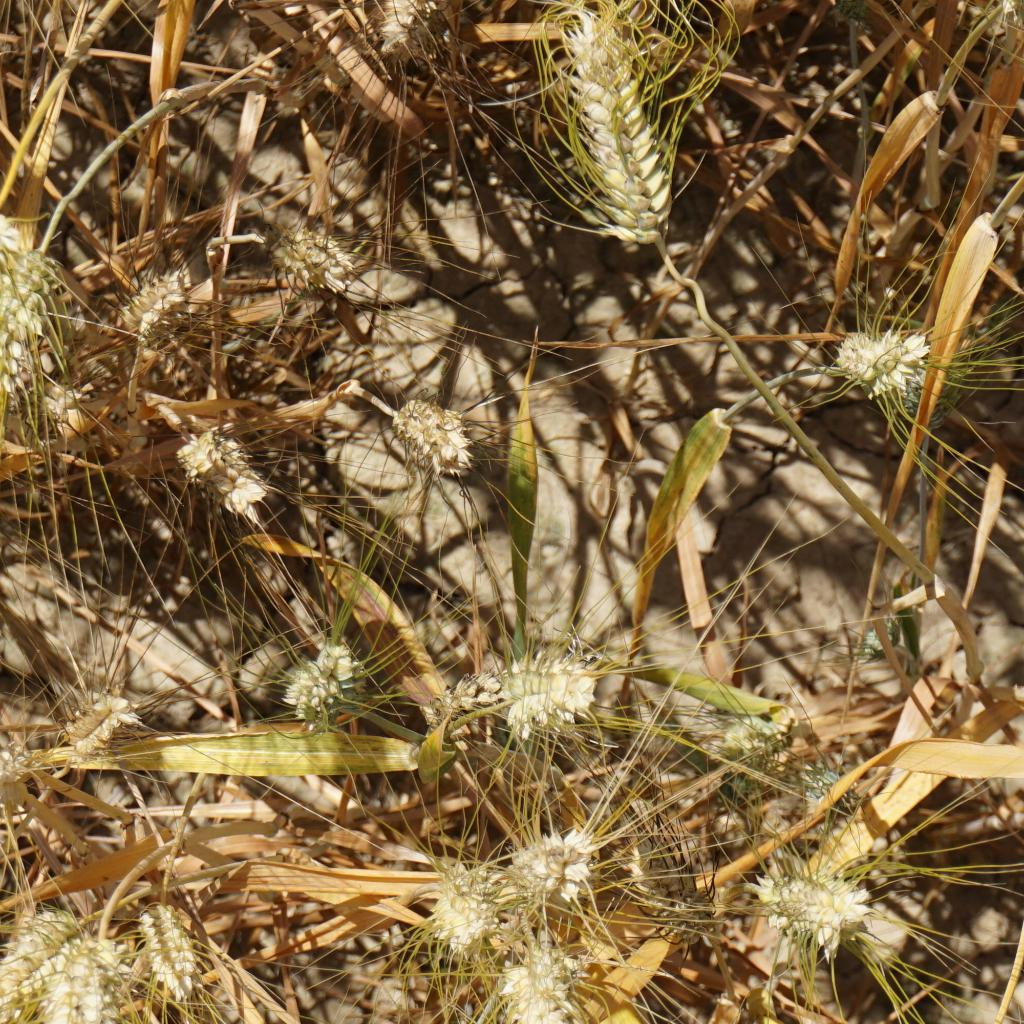0-0: (547, 19, 683, 251), (754, 850, 864, 949), (0, 230, 55, 419), (181, 419, 281, 512), (134, 893, 210, 1002), (488, 649, 592, 728), (512, 813, 590, 913), (253, 216, 356, 291), (118, 253, 197, 344), (388, 384, 468, 472), (31, 933, 108, 1024), (699, 691, 782, 774), (47, 665, 134, 744), (273, 640, 358, 718), (504, 943, 582, 1024), (411, 854, 480, 941), (0, 889, 51, 998), (838, 325, 921, 391), (0, 728, 39, 819), (380, 0, 425, 73)
